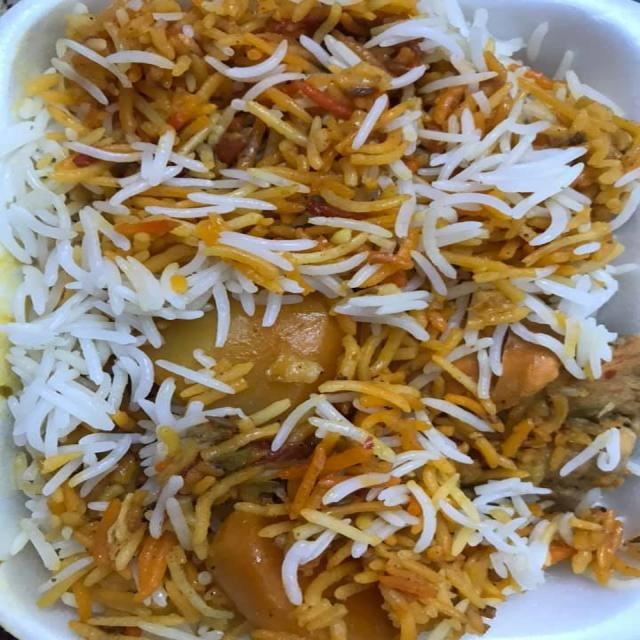Biryani: (10, 43, 640, 640)
